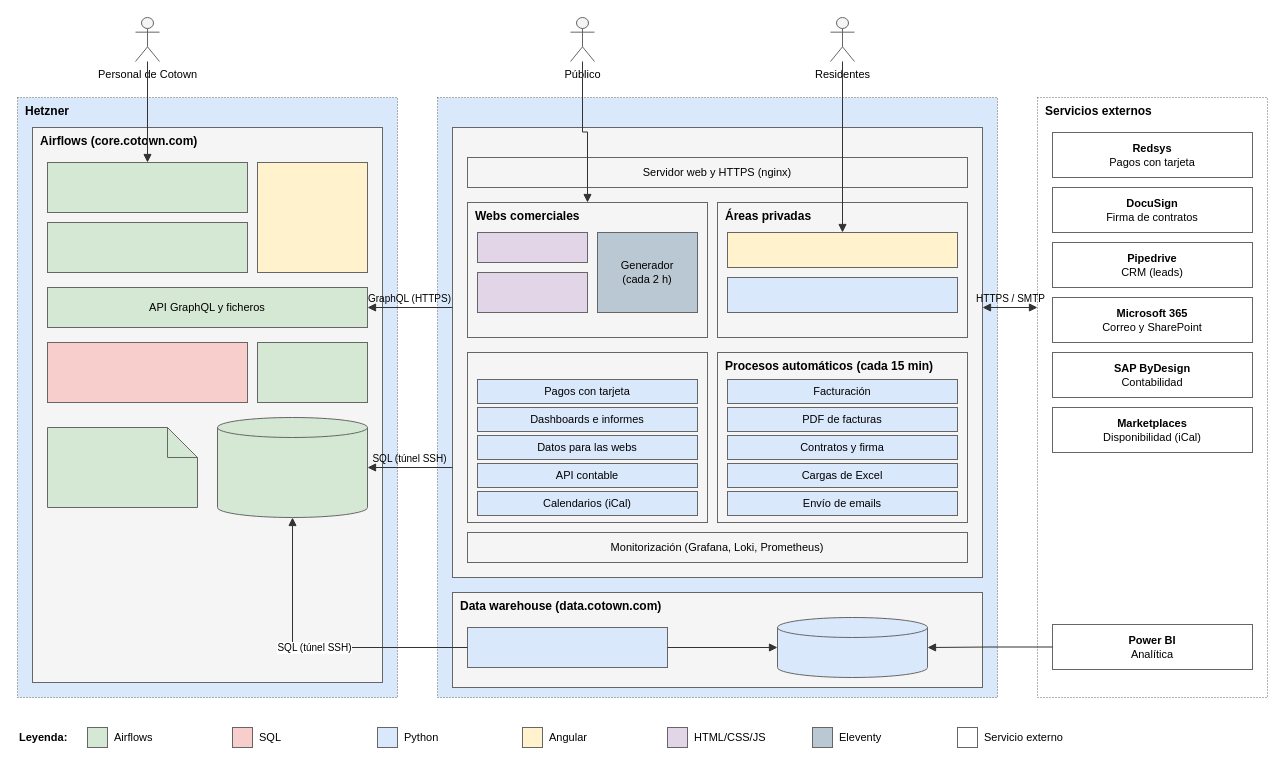
The diagram is 1285 pixels wide and 765 high, and some of its shapes have lost their labels. Here are the shapes that lost their labels. From the top down, the box of each, then its label:
(46, 162, 248, 212): Interfaz de usuario (ERP de gestión)
(256, 162, 368, 272): Backoffice complementario Planning, dashboards, informes
(46, 222, 248, 272): Seguridad (Keycloak)
(476, 232, 588, 262): cotown.com
(726, 232, 958, 268): Portal del residente
(476, 272, 588, 312): vanguard-student- housing.com
(726, 276, 958, 312): Proceso de reserva web
(46, 342, 248, 402): Reglas de negocio (triggers)
(256, 342, 368, 402): Procesos programados (pg_cron)
(452, 126, 982, 578): Servidor de servicios (back.cotown.com)
(436, 96, 998, 698): Azure
(466, 352, 708, 522): Servicio de integración (API)
(46, 426, 198, 508): Modelo de datos (metadatos)
(216, 416, 368, 518): Base de datos PostgreSQL
(466, 626, 668, 668): Carga de datos (ETL)
(776, 616, 928, 678): Data warehouse PostgreSQL
